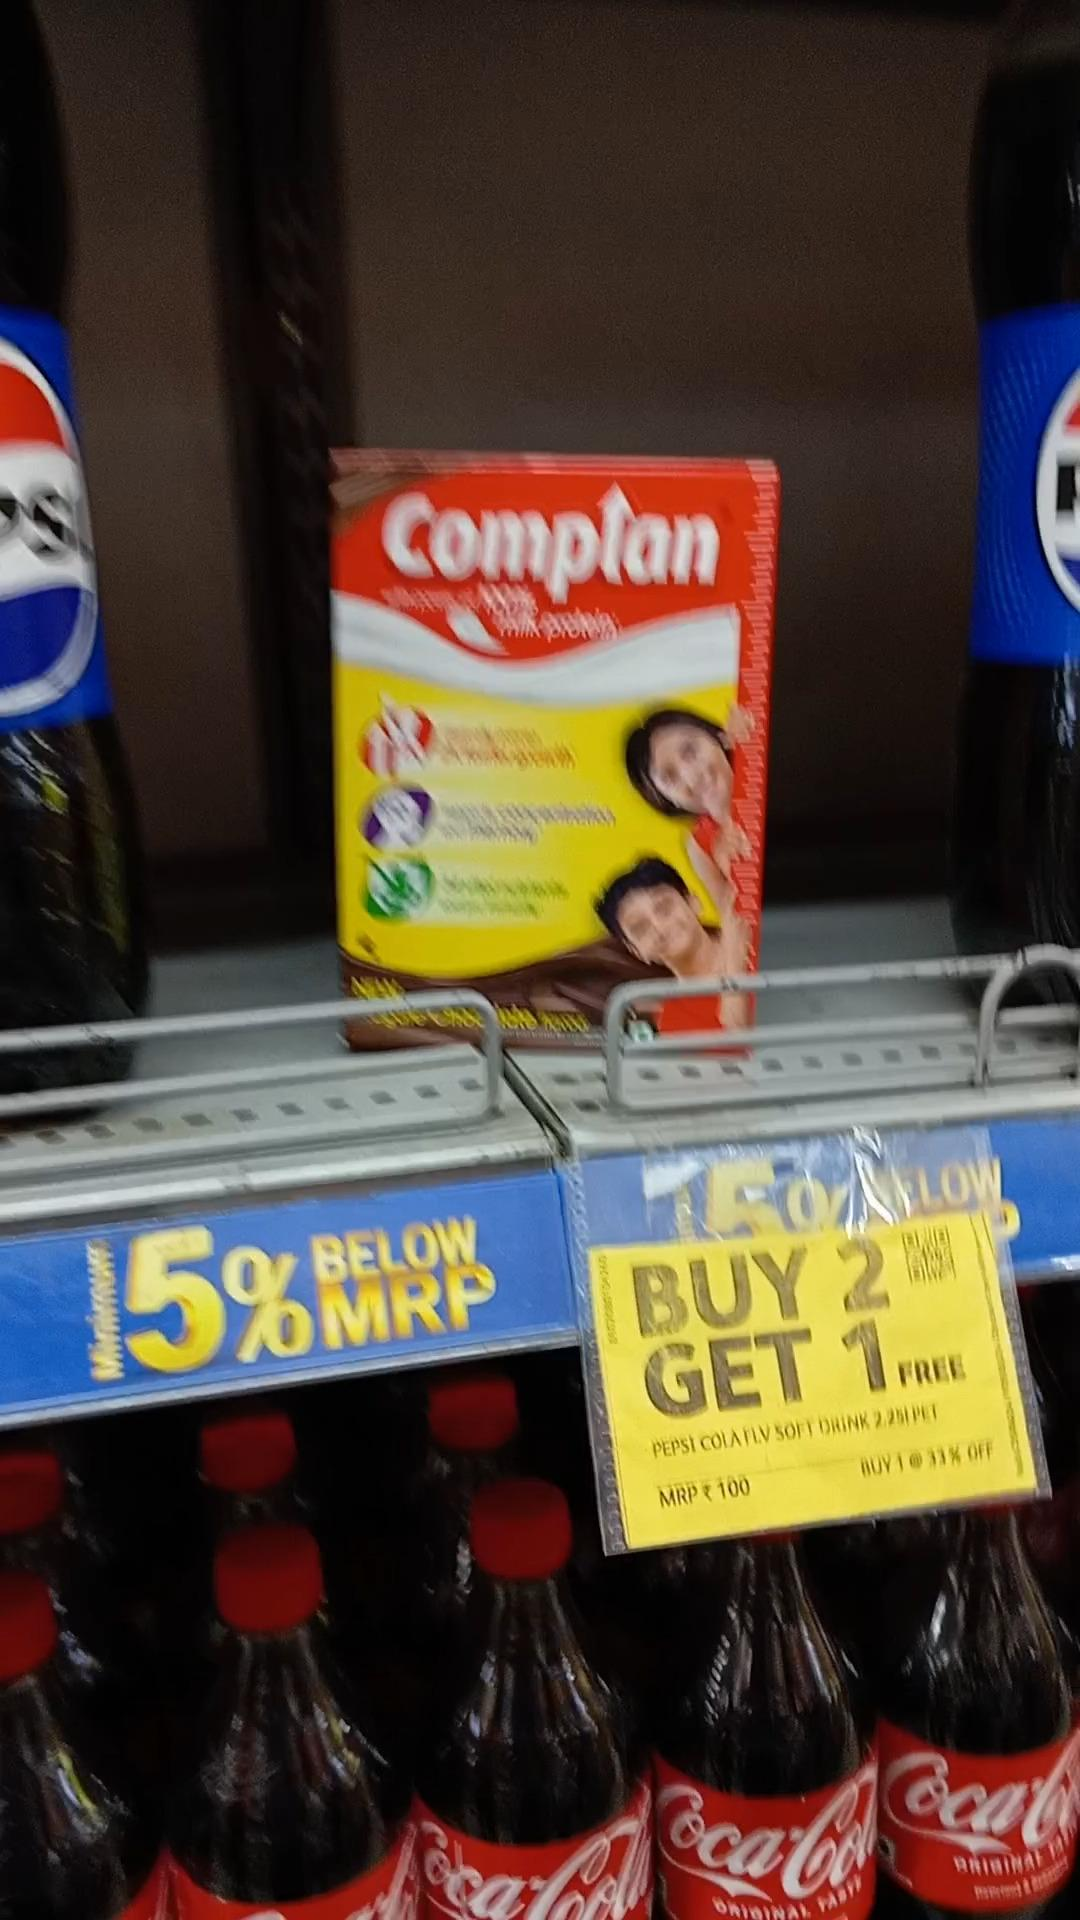COMPLAN_CHOCOLATE_200_GMS_PACK: (330, 452, 760, 1040)
